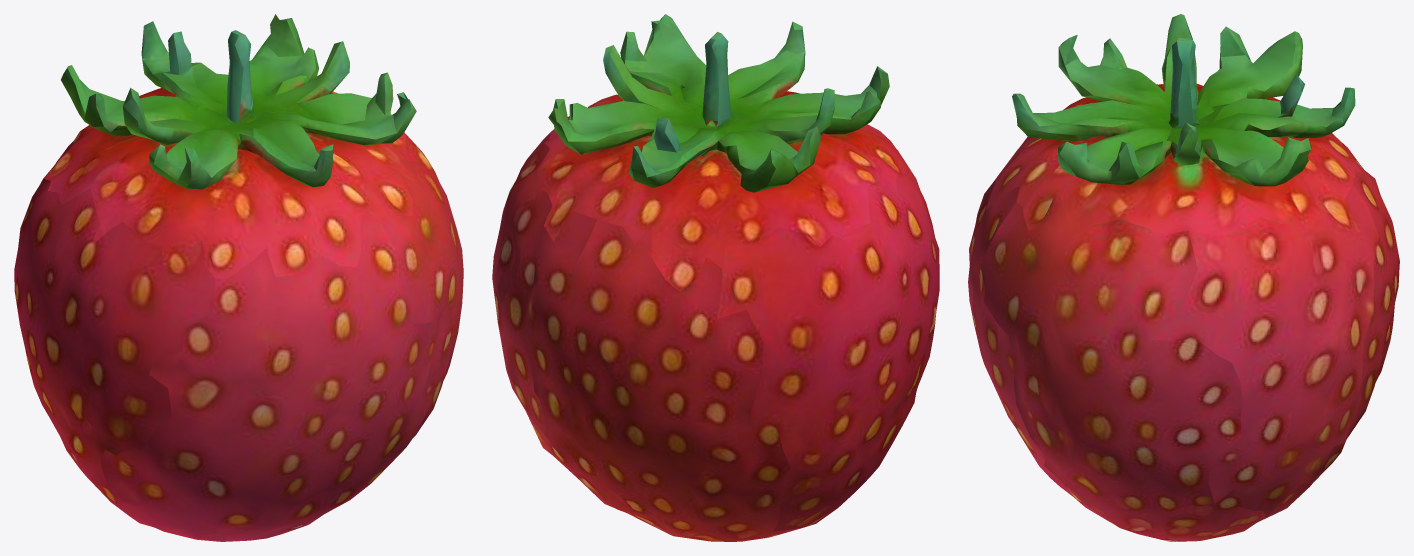
The model's file is strawberry.glb.
The picture shows the model from 3 angles, left to right: view 1: azimuth 30°, elevation 25°; view 2: azimuth 150°, elevation 25°; view 3: azimuth 270°, elevation 25°; orthographic projection.
Parts seen in each view (by area): view 1: strawberry; view 2: strawberry; view 3: strawberry.
Part boxes in pixels (<box>): strawberry: <box>14,14,463,541</box>; strawberry: <box>492,14,939,541</box>; strawberry: <box>968,14,1399,541</box>.
Bounding box in the file's own units: 0.8205 × 1 × 0.8047.
Materials: 1 (1 with a texture image).
